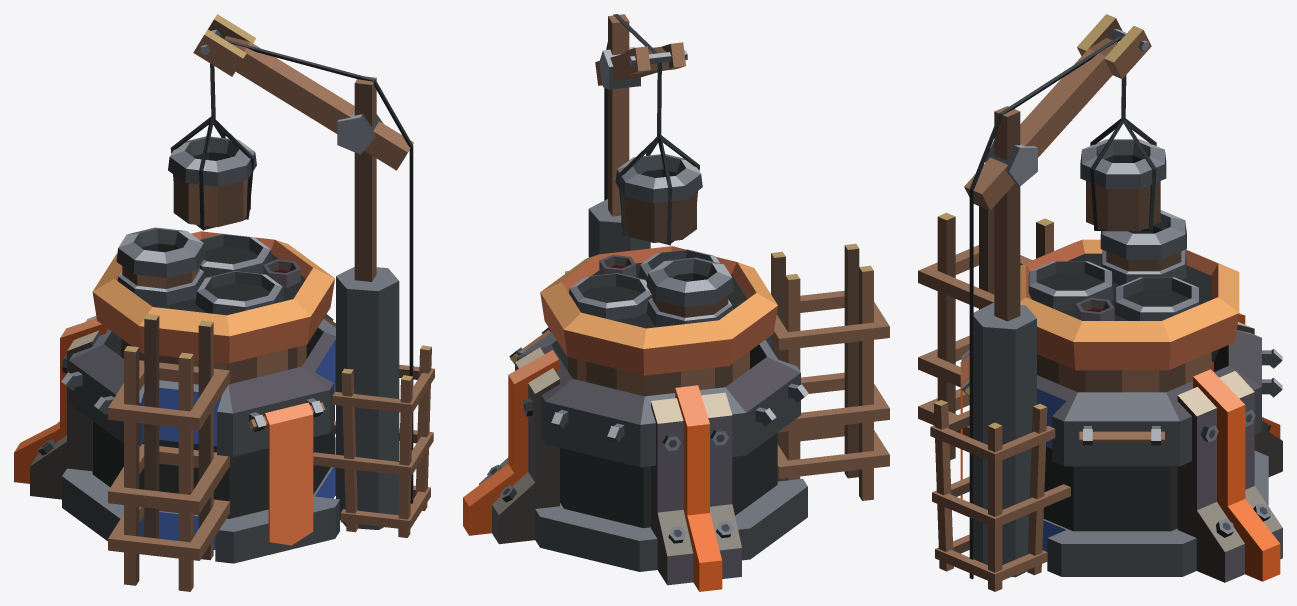
Rendered from mortar_construction.fbx.
The picture shows the model from 3 angles, left to right: view 1: azimuth 30°, elevation 25°; view 2: azimuth 150°, elevation 25°; view 3: azimuth 270°, elevation 25°; orthographic projection. The views are drawn at different scales.
Visible parts, largest first — view 1: TB_CanonTower_Lvl4_B_Cons; view 2: TB_CanonTower_Lvl4_B_Cons; view 3: TB_CanonTower_Lvl4_B_Cons.
Part boxes in pixels (x1,y1,x2,y2): TB_CanonTower_Lvl4_B_Cons: (14, 14, 434, 591); TB_CanonTower_Lvl4_B_Cons: (463, 14, 889, 591); TB_CanonTower_Lvl4_B_Cons: (918, 14, 1282, 591).
Size of the model in its own units: 9.86 by 13.53 by 9.09.
